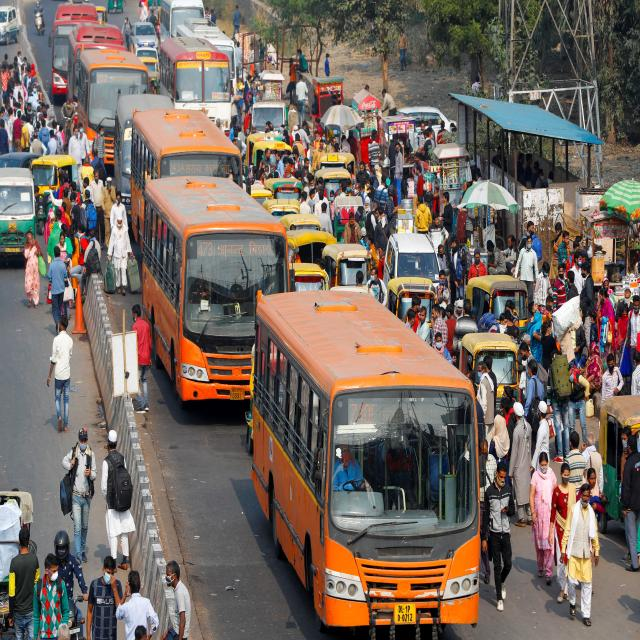autorickshaw: (459, 333, 520, 403), (31, 155, 78, 234), (466, 275, 529, 333), (322, 242, 371, 288), (388, 277, 436, 321)
bus: (251, 288, 479, 635), (140, 176, 290, 403), (131, 108, 242, 240), (78, 48, 149, 170), (160, 37, 231, 132), (51, 4, 98, 97)
car: (0, 166, 36, 261), (384, 232, 440, 284), (130, 21, 159, 52)
